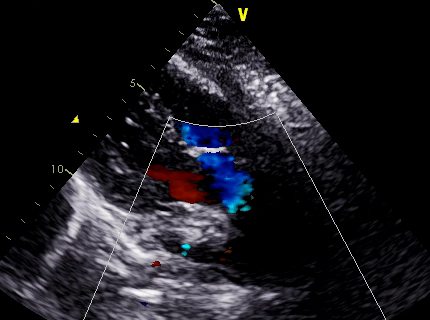AR: (159, 155, 218, 205)
